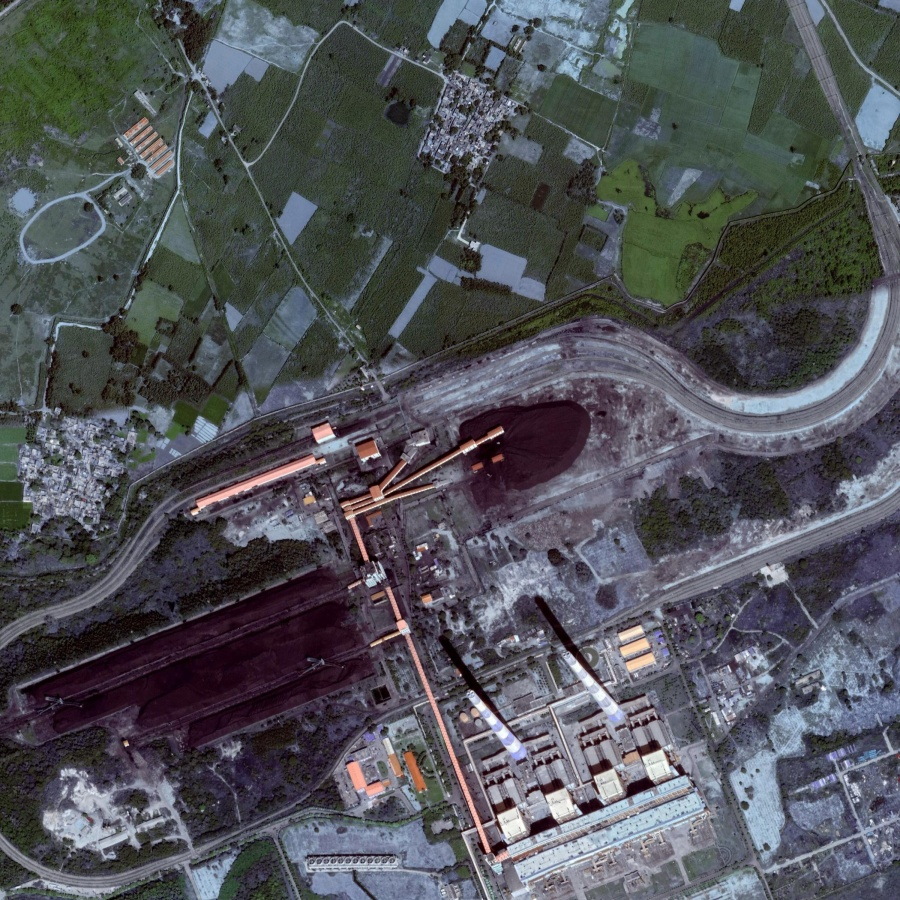PowerPlant: (428, 588, 665, 794)
